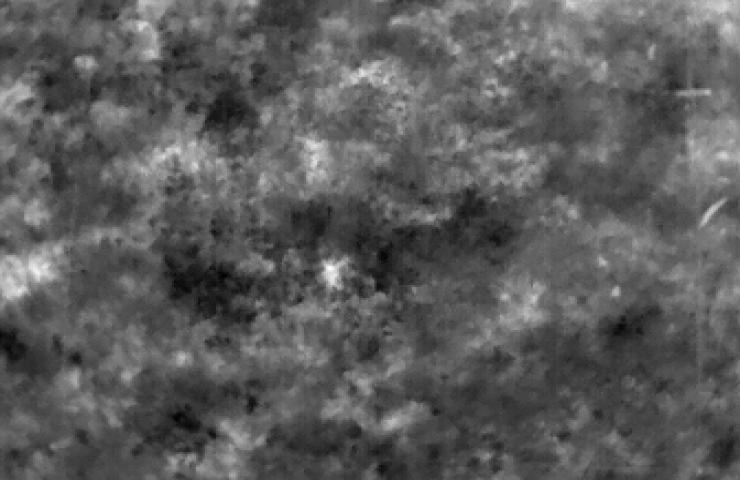landmines: (319, 254, 352, 291)
